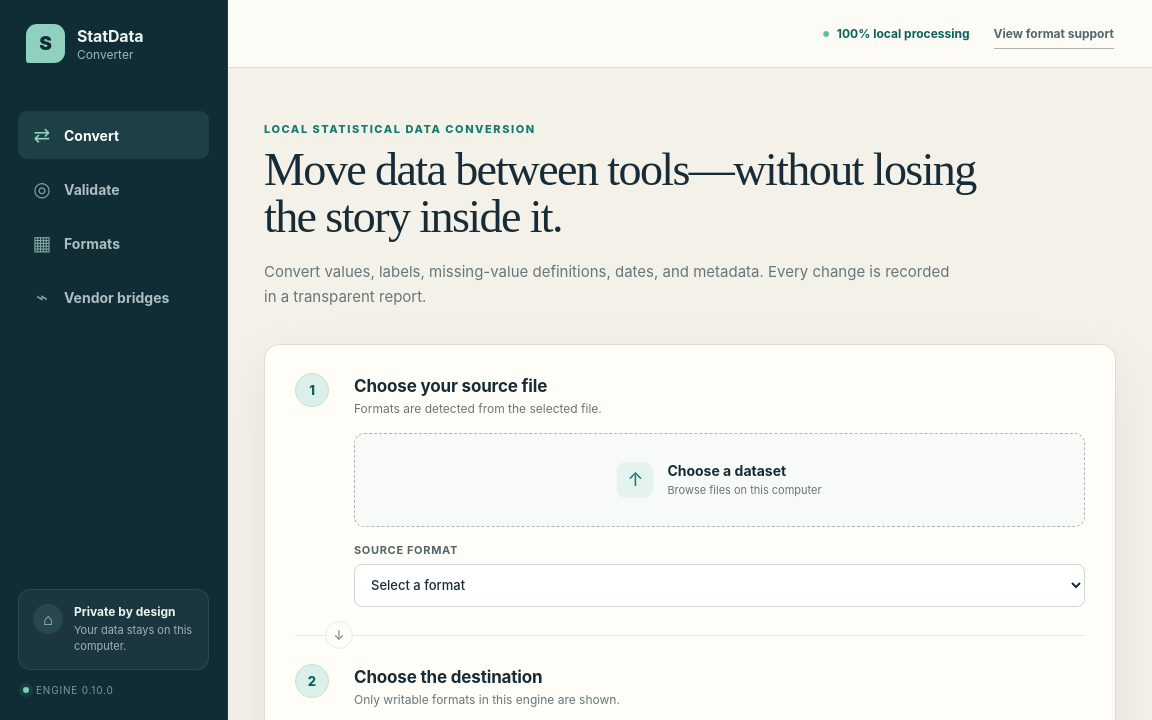
it: StatData Converter app › shows local vendor bridge management
Click the button "⌁ Vendor bridges" at point(114, 297), box [18,273,209,321]
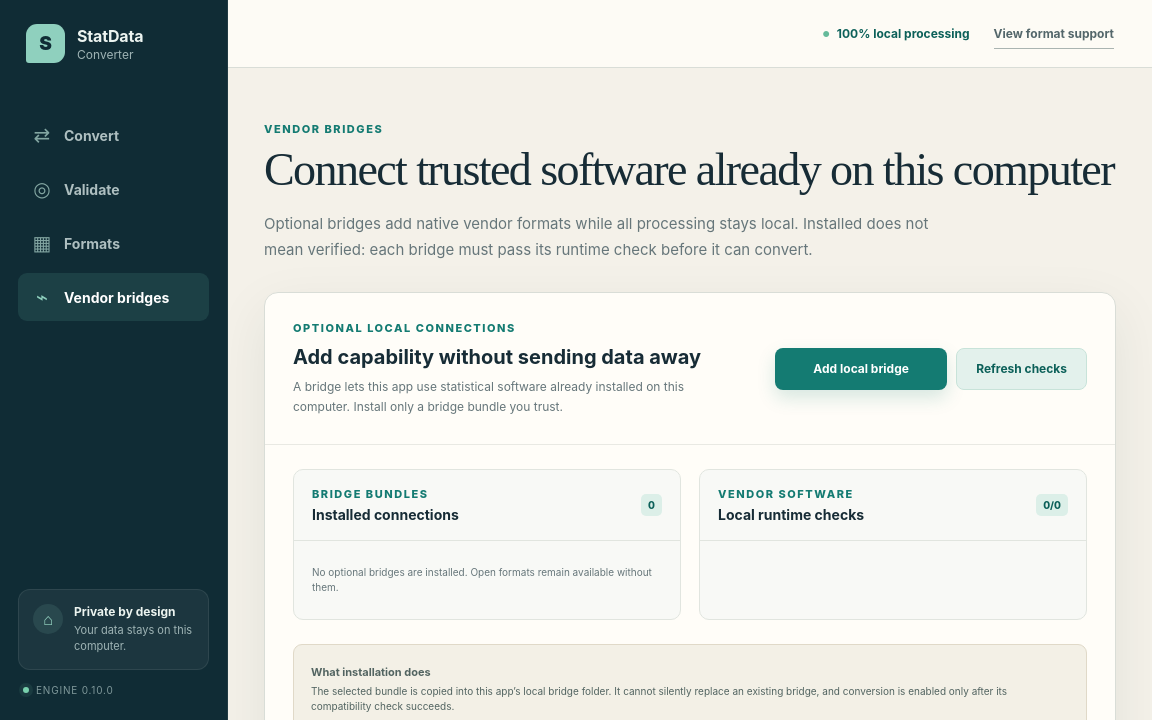
expect the heading "Connect trusted software already on this computer" is shown: met, box [264,146,1116,194]
expect the button "Add local bridge" is shown: met, box [775,348,947,390]
expect the heading "Local runtime checks" is shown: met, box [718,506,864,523]
